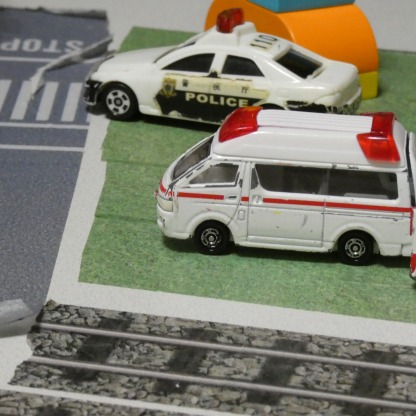car: (160, 112, 416, 262), (82, 12, 363, 135)
